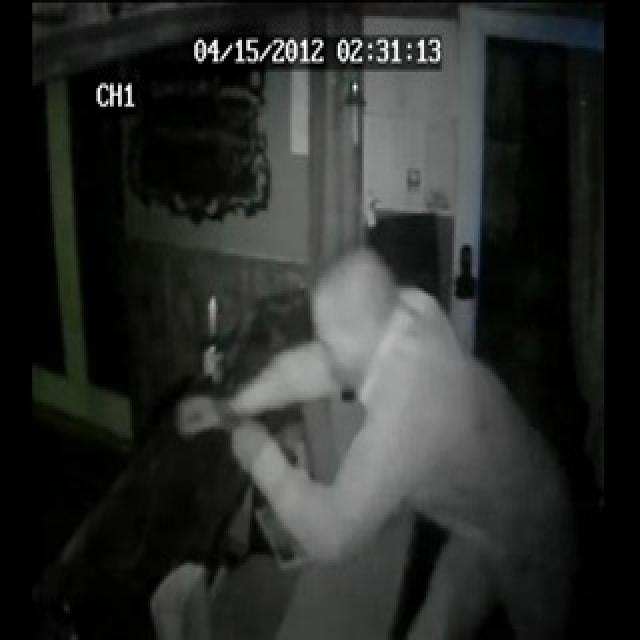thief: (283, 232, 412, 396)
